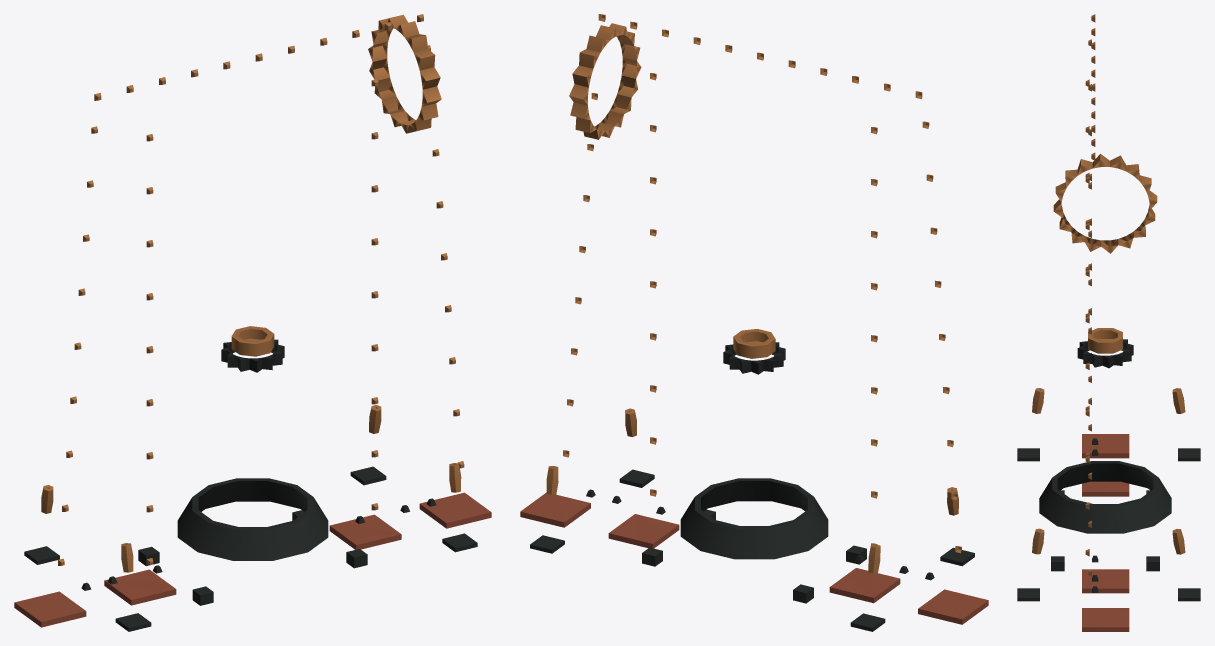
File: trebuchet_launcher_detail1.glb
3 views of the same model, side by side, from view 1: azimuth 30°, elevation 25°; view 2: azimuth 150°, elevation 25°; view 3: azimuth 270°, elevation 25° (orthographic). The views are drawn at different scales.
Parts seen in each view (by area): view 1: Detail1; view 2: Detail1; view 3: Detail1.
Boxes of the visible parts, bbox=[...] form: Detail1: bbox=[14, 14, 491, 631]; Detail1: bbox=[520, 14, 988, 631]; Detail1: bbox=[1017, 14, 1200, 631].
Size of the model in its own units: 12 by 13.06 by 4.82.
